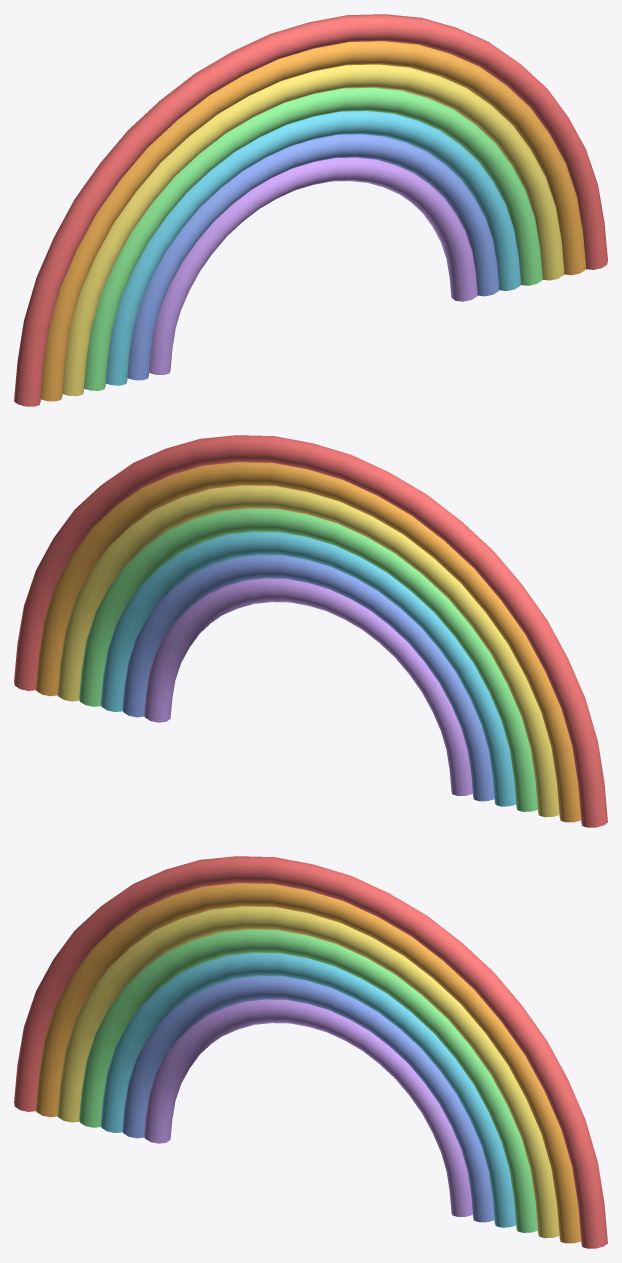
Rendered from rainbow.glb.
The picture shows the model from 3 angles, top to bottom: view 1: azimuth 30°, elevation 25°; view 2: azimuth 150°, elevation 25°; view 3: azimuth 330°, elevation 25°; orthographic projection.
Visible parts, largest first — view 1: Arc0, Arc1, Arc2, Arc3, Arc4, Arc5, Arc6; view 2: Arc0, Arc1, Arc2, Arc3, Arc4, Arc5, Arc6; view 3: Arc0, Arc1, Arc2, Arc3, Arc4, Arc5, Arc6.
Boxes of the visible parts, box(x1,y1,x2,y2) form: Arc0: box(14, 14, 607, 406); Arc1: box(40, 41, 586, 401); Arc2: box(62, 64, 564, 396); Arc3: box(84, 87, 542, 390); Arc4: box(105, 111, 520, 385); Arc5: box(127, 134, 499, 380); Arc6: box(149, 157, 477, 374); Arc0: box(14, 435, 607, 827); Arc1: box(35, 462, 581, 822); Arc2: box(57, 485, 559, 817); Arc3: box(79, 508, 537, 811); Arc4: box(101, 532, 516, 806); Arc5: box(122, 555, 494, 801); Arc6: box(144, 578, 472, 795); Arc0: box(14, 856, 607, 1248); Arc1: box(35, 883, 581, 1243); Arc2: box(57, 906, 559, 1238); Arc3: box(79, 929, 537, 1232); Arc4: box(101, 953, 516, 1227); Arc5: box(122, 976, 494, 1222); Arc6: box(144, 999, 472, 1216).
Size of the model in its own units: 1.5 by 0.7523 by 0.06.
